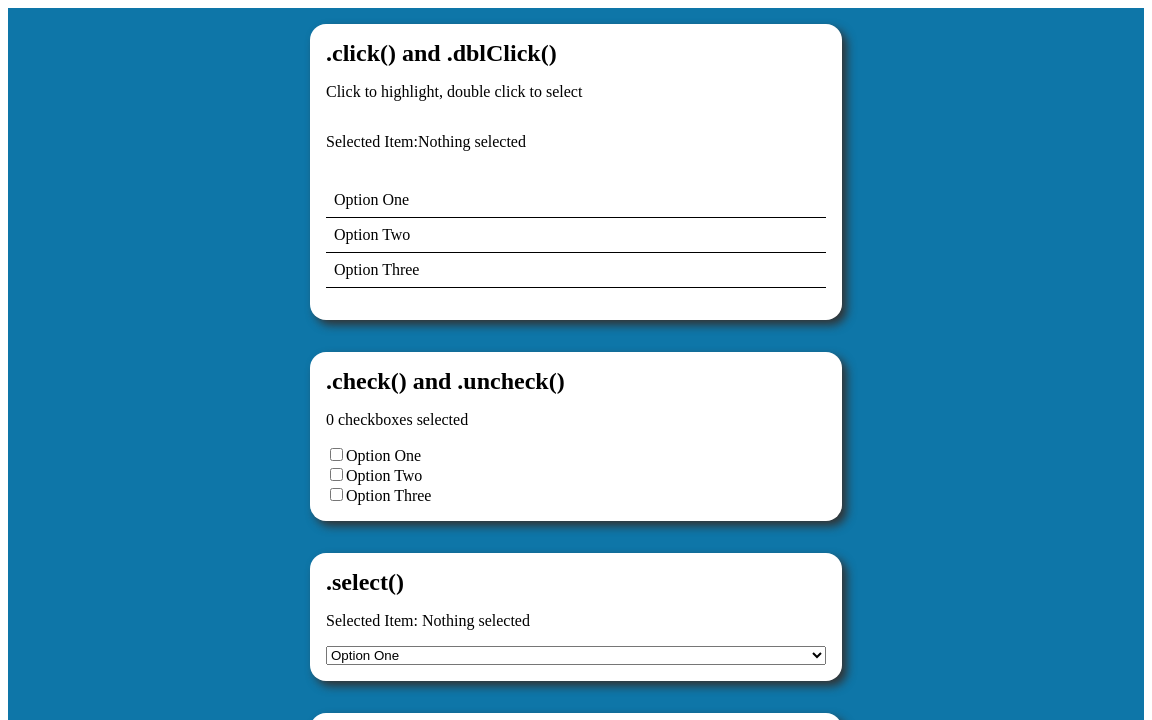
Test: Third block, commands: select › Validate third option
Select "2" in the dropdown with test id "box-3-dropdown": (576, 656) [326,646,826,665]
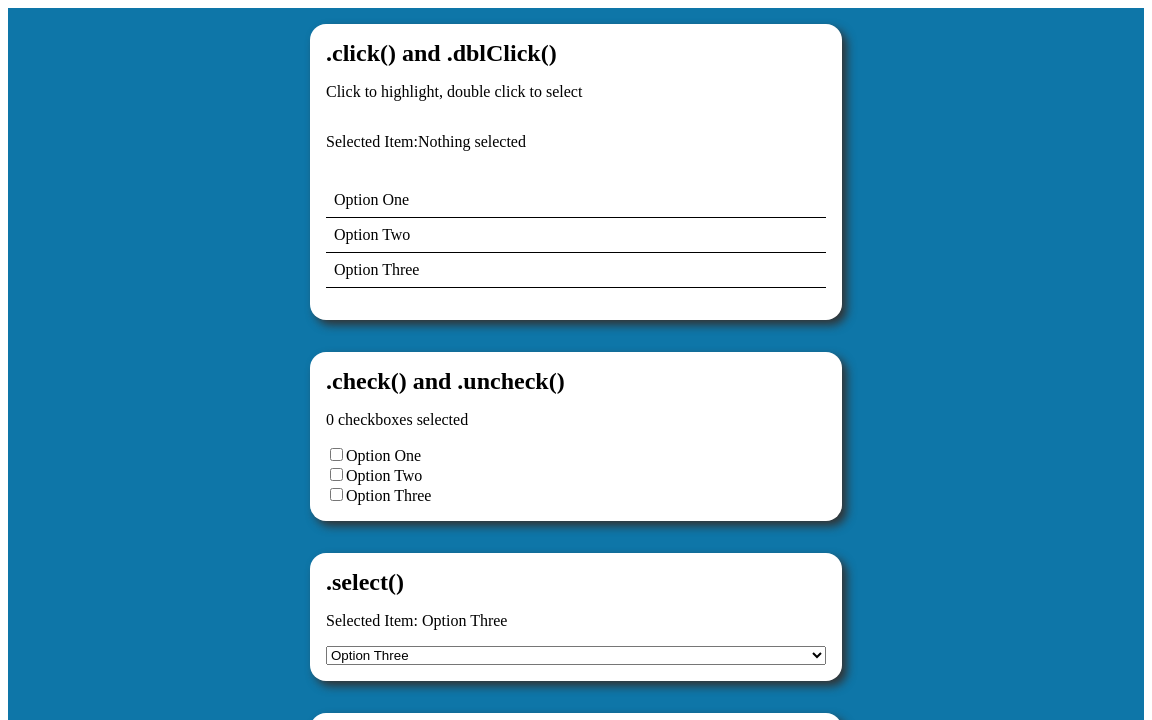
Expected: the text with test id "box-3-selected-name" reads "Option Three", [422,612,508,629]
